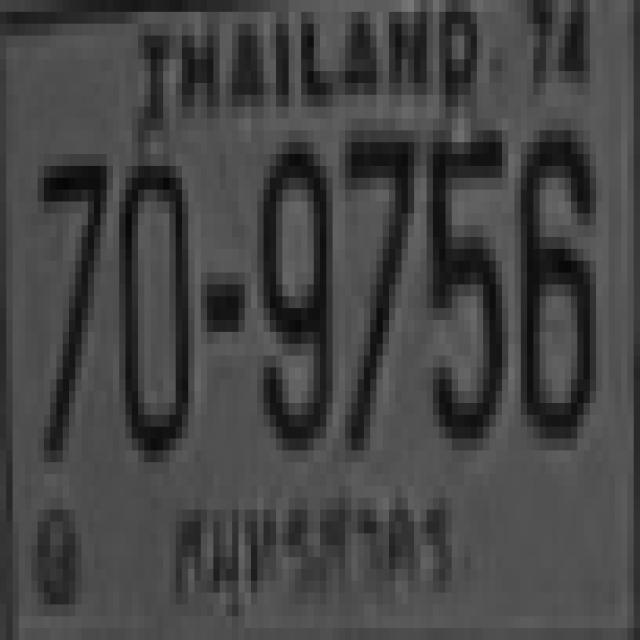0: (116, 154, 185, 450)
5: (427, 119, 502, 438)
6: (514, 119, 590, 438)
7: (342, 124, 411, 444), (38, 154, 106, 450)
9: (258, 130, 326, 438)
SamutSakhon: (159, 487, 462, 607)
